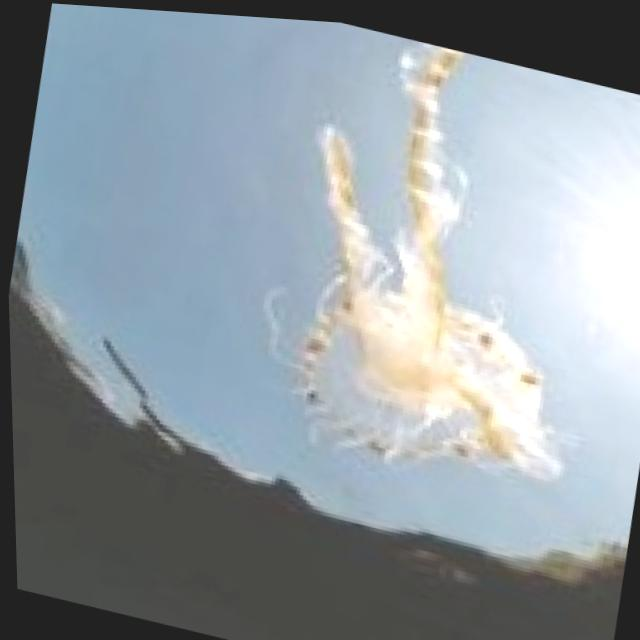Moon-jellyfish: (246, 13, 637, 509)
